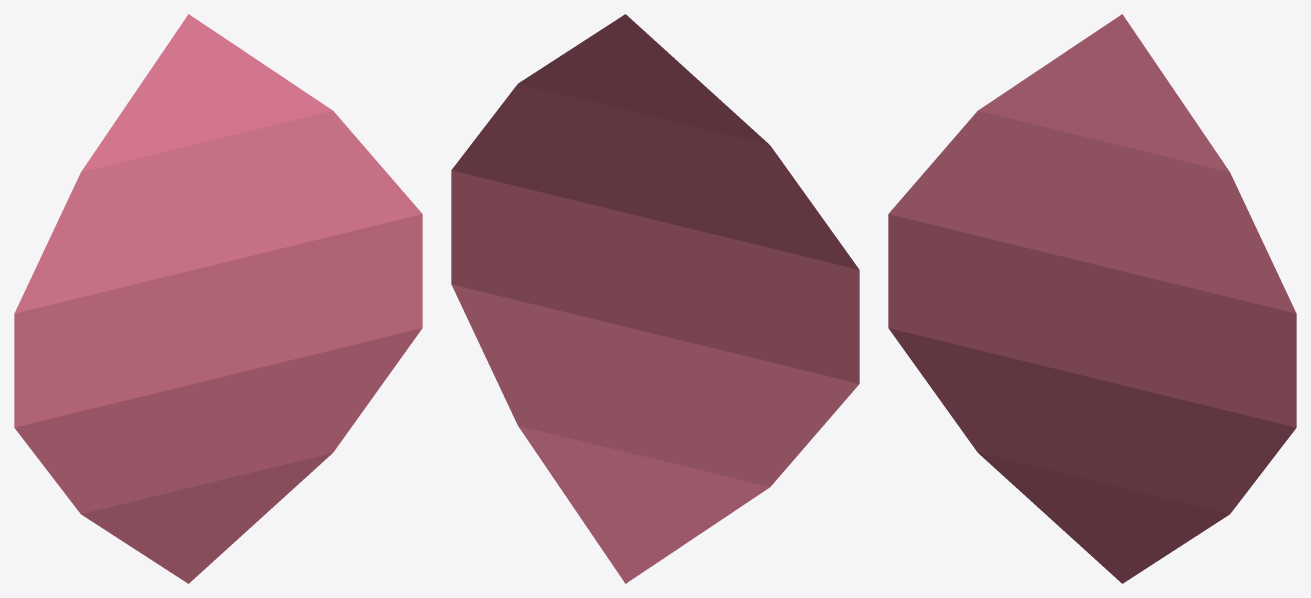
The model's file is weather_rose_petal.glb.
3 views of the same model, side by side, from view 1: azimuth 30°, elevation 25°; view 2: azimuth 150°, elevation 25°; view 3: azimuth 330°, elevation 25° (orthographic).
Parts seen in each view (by area): view 1: bending_rose_petal; view 2: bending_rose_petal; view 3: bending_rose_petal.
Part boxes in pixels (x1,y1,x2,y2): bending_rose_petal: (14,14,422,583); bending_rose_petal: (451,14,859,583); bending_rose_petal: (888,14,1296,583).
Bounding box in the file's own units: 0.6372 × 0.85 × 0.0808.
